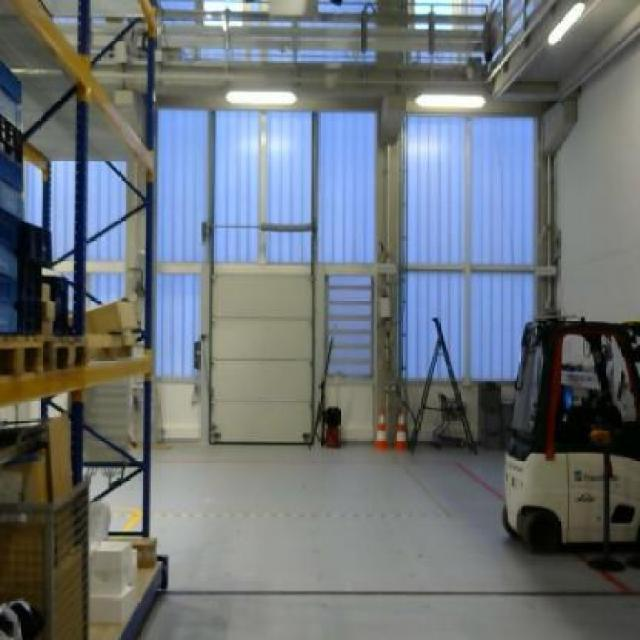box: (86, 298, 142, 334)
